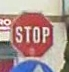stop: (9, 10, 54, 57)
